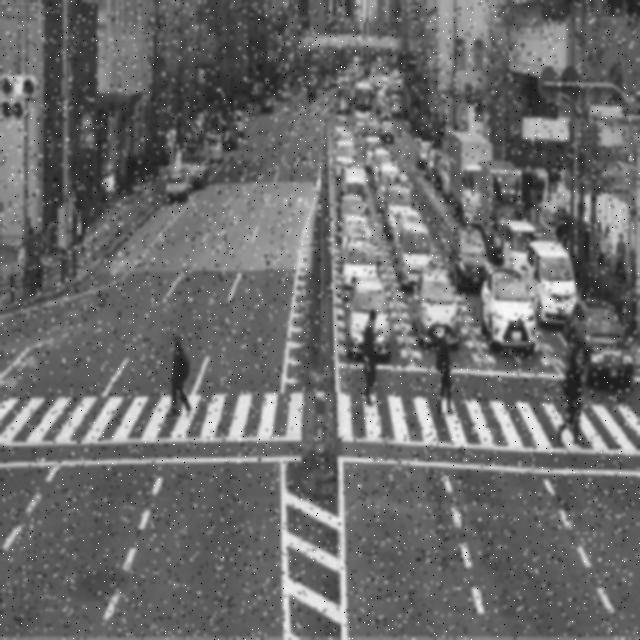crosswalk: (336, 389, 640, 462), (0, 388, 309, 454)
